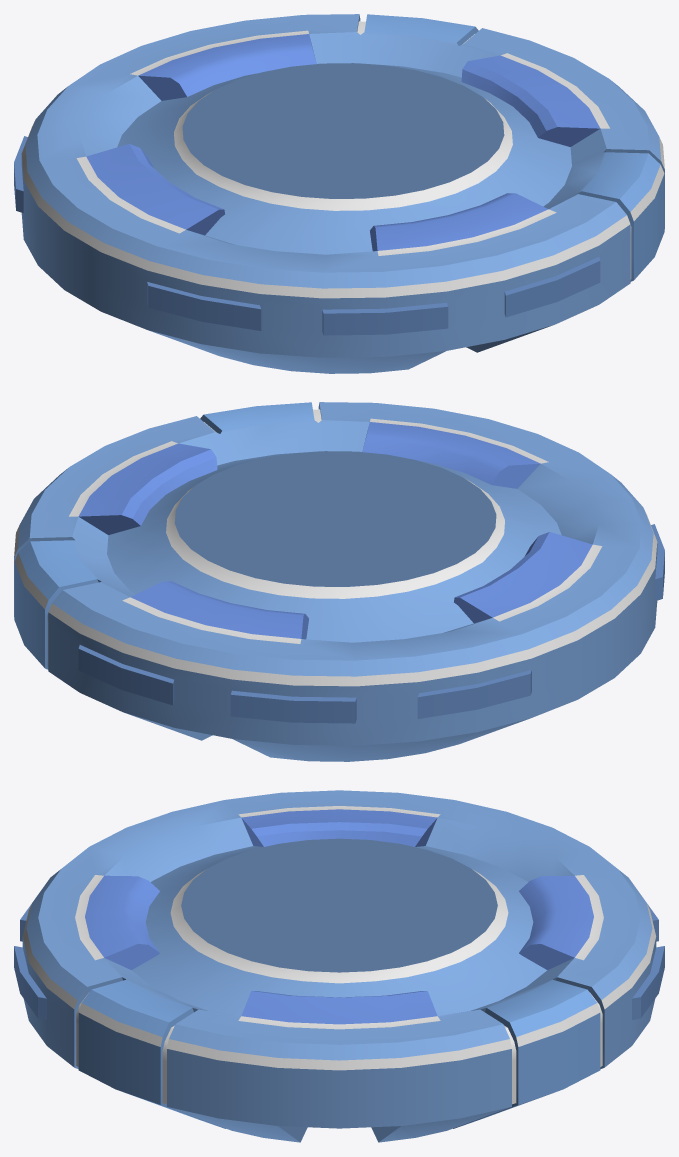
Rendered from Jump Pad.fbx.
3 renders of one model, top to bottom at view 1: azimuth 30°, elevation 25°; view 2: azimuth 150°, elevation 25°; view 3: azimuth 270°, elevation 25°, orthographic.
Parts seen in each view (by area): view 1: Cylinder; view 2: Cylinder; view 3: Cylinder.
Boxes of the visible parts, box(x1,y1,x2,y2) form: Cylinder: box(14, 14, 664, 373); Cylinder: box(14, 402, 664, 761); Cylinder: box(14, 790, 664, 1142).
Size of the model in its own units: 2 by 0.5466 by 2.06.
